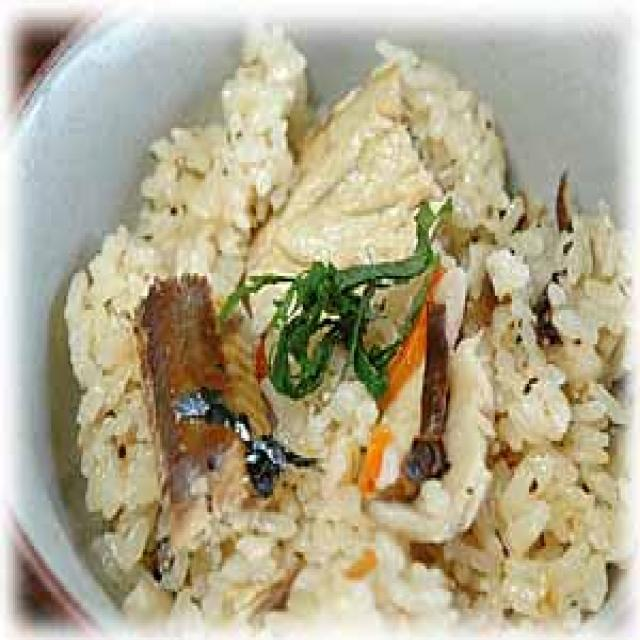米饭主食: (8, 25, 631, 640)
